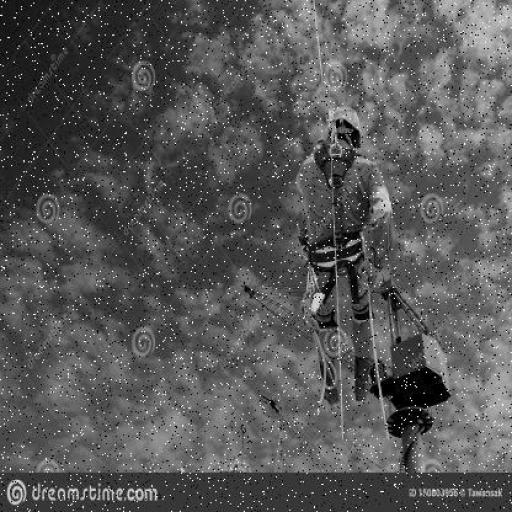person: (296, 101, 390, 411)
safety_shoe: (318, 351, 342, 405), (352, 354, 373, 403)
